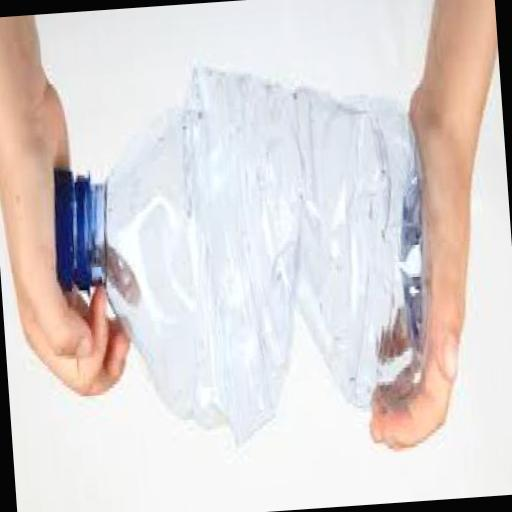plastic: (44, 52, 446, 461), (52, 168, 100, 301)
